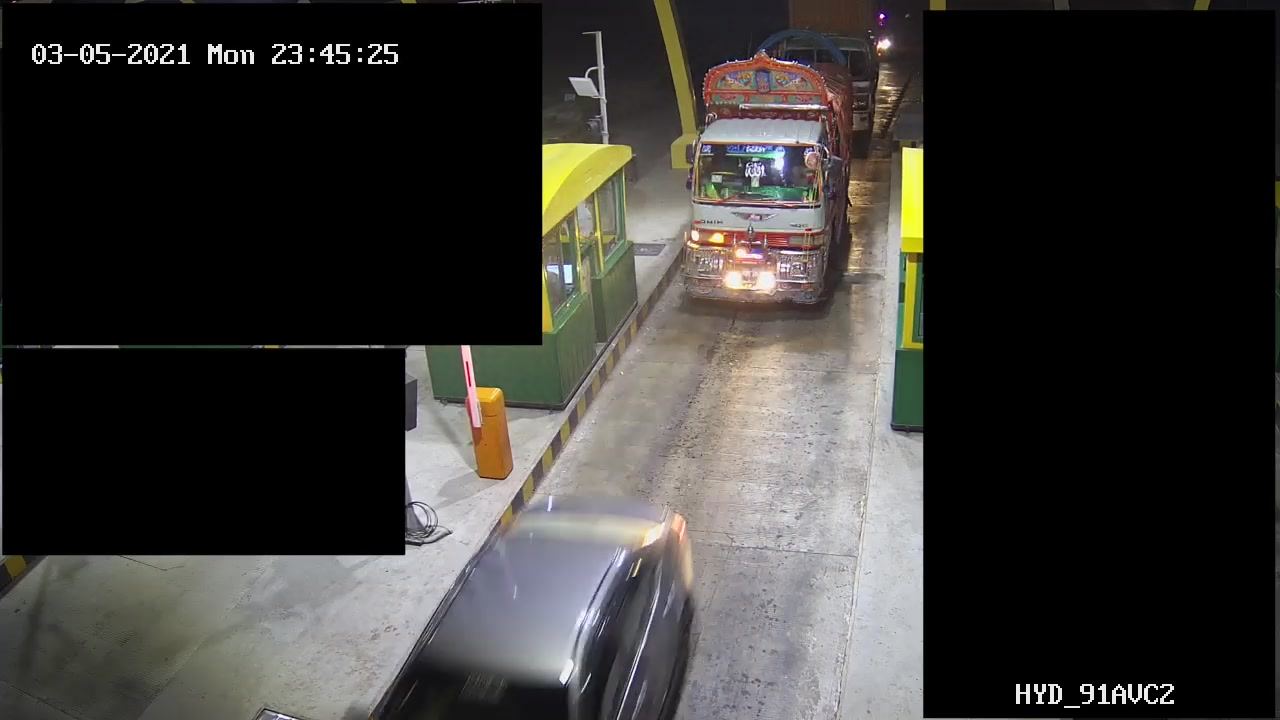F5: (677, 28, 864, 308)
